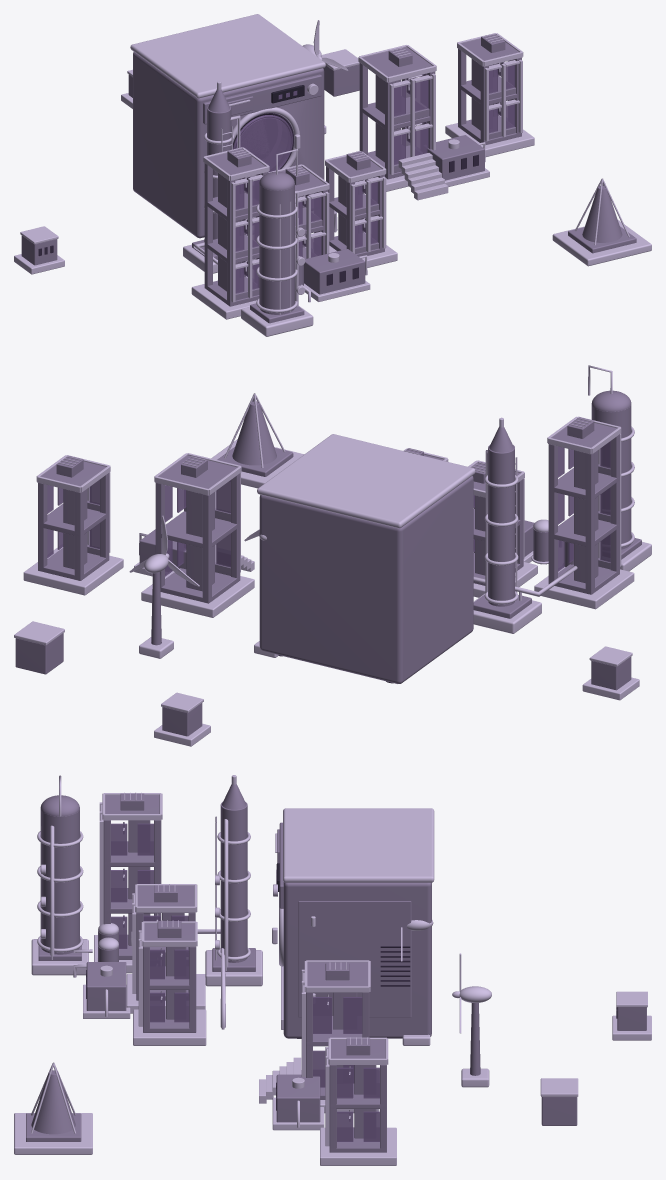
File: lifecycle-models.glb
3 views of the same model, one above another, from view 1: azimuth 30°, elevation 25°; view 2: azimuth 150°, elevation 25°; view 3: azimuth 270°, elevation 25° (orthographic). The views are drawn at different scales.
Parts seen in each view (by area): view 1: FactoryModels_Shell, FactoryModels_Trim, ProductModels_Shell_Shell, ProductModels_Trim, EnergyModels_Shell, EnergyModels_Trim, FactoryModels_Glass, ProductModels_Shell, ProductModels_Glass; view 2: ProductModels_Shell_Shell, FactoryModels_Shell, ProductModels_Trim, EnergyModels_Shell, FactoryModels_Trim, EnergyModels_Trim, FactoryModels_Glass, ProductModels_Shell; view 3: FactoryModels_Shell, EnergyModels_Shell, FactoryModels_Trim, ProductModels_Trim, ProductModels_Shell, EnergyModels_Trim, ProductModels_Shell_Shell, FactoryModels_Glass, ProductModels_Cavity.
Boxes of the visible parts, x1=… form: FactoryModels_Shell: x1=204, y1=34, x2=521, y2=306; FactoryModels_Trim: x1=191, y1=33, x2=534, y2=319; ProductModels_Shell_Shell: x1=133, y1=52, x2=324, y2=238; ProductModels_Trim: x1=14, y1=14, x2=325, y2=274; EnergyModels_Shell: x1=192, y1=64, x2=636, y2=323; EnergyModels_Trim: x1=183, y1=44, x2=651, y2=336; FactoryModels_Glass: x1=235, y1=59, x2=515, y2=293; ProductModels_Shell: x1=21, y1=74, x2=321, y2=265; ProductModels_Glass: x1=233, y1=91, x2=297, y2=176; ProductModels_Shell_Shell: x1=259, y1=476, x2=473, y2=683; FactoryModels_Shell: x1=38, y1=417, x2=619, y2=603; ProductModels_Trim: x1=154, y1=434, x2=639, y2=746; EnergyModels_Shell: x1=15, y1=390, x2=641, y2=674; FactoryModels_Trim: x1=23, y1=416, x2=634, y2=617; EnergyModels_Trim: x1=14, y1=365, x2=651, y2=658; FactoryModels_Glass: x1=47, y1=441, x2=610, y2=576; ProductModels_Shell: x1=162, y1=657, x2=631, y2=736; FactoryModels_Shell: x1=86, y1=793, x2=386, y2=1152; EnergyModels_Shell: x1=26, y1=784, x2=577, y2=1141; FactoryModels_Trim: x1=73, y1=792, x2=396, y2=1165; ProductModels_Trim: x1=272, y1=808, x2=651, y2=1040; ProductModels_Shell: x1=277, y1=822, x2=646, y2=1030; EnergyModels_Trim: x1=14, y1=775, x2=578, y2=1154; ProductModels_Shell_Shell: x1=283, y1=882, x2=431, y2=1038; FactoryModels_Glass: x1=111, y1=823, x2=379, y2=1141; ProductModels_Cavity: x1=297, y1=946, x2=617, y2=1038.
Bounding box in the file's own units: 3.31 × 1.11 × 3.23.
